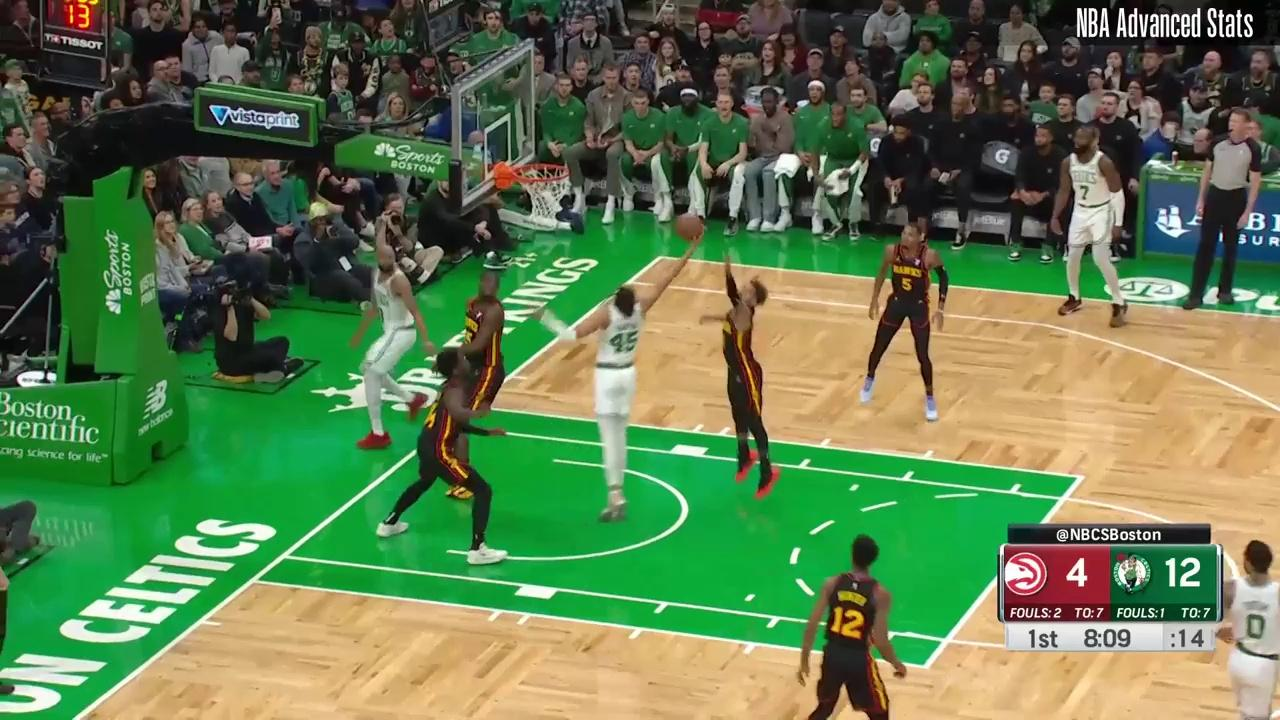3_dx: (622, 275, 637, 288)
b_dx: (655, 250, 666, 262)
free_adx: (1072, 470, 1089, 486)
free_asx: (918, 659, 933, 675)
free_bsx: (246, 572, 261, 587)
referee: (1182, 109, 1260, 310)
team: (529, 230, 706, 521), (350, 243, 437, 450), (1051, 126, 1129, 330), (1212, 539, 1280, 720)
team1: (377, 345, 508, 565), (795, 533, 906, 720), (859, 222, 950, 423), (430, 268, 504, 500), (720, 251, 782, 499)
timer: (1079, 623, 1133, 652)
